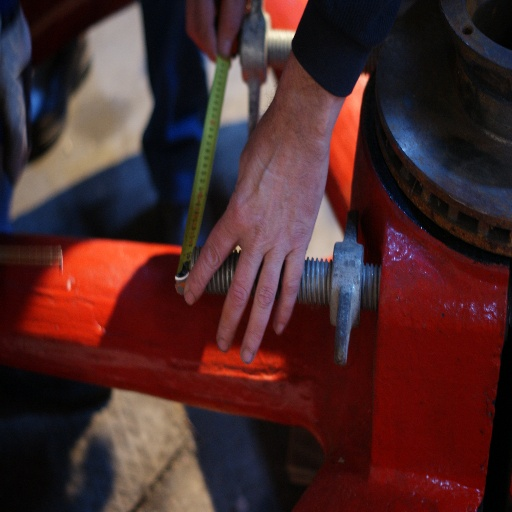hand: (189, 38, 332, 410), (185, 0, 248, 68)
